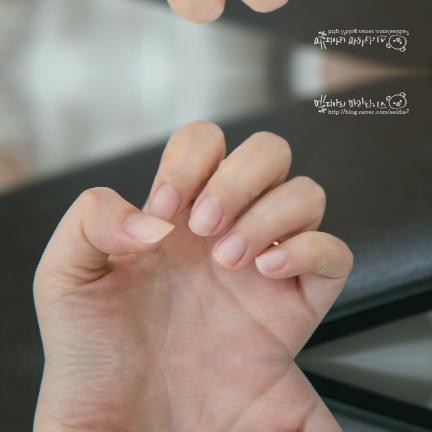Nail: (124, 213, 175, 244), (189, 198, 223, 236), (213, 234, 247, 269), (150, 186, 181, 220), (256, 247, 288, 275)
